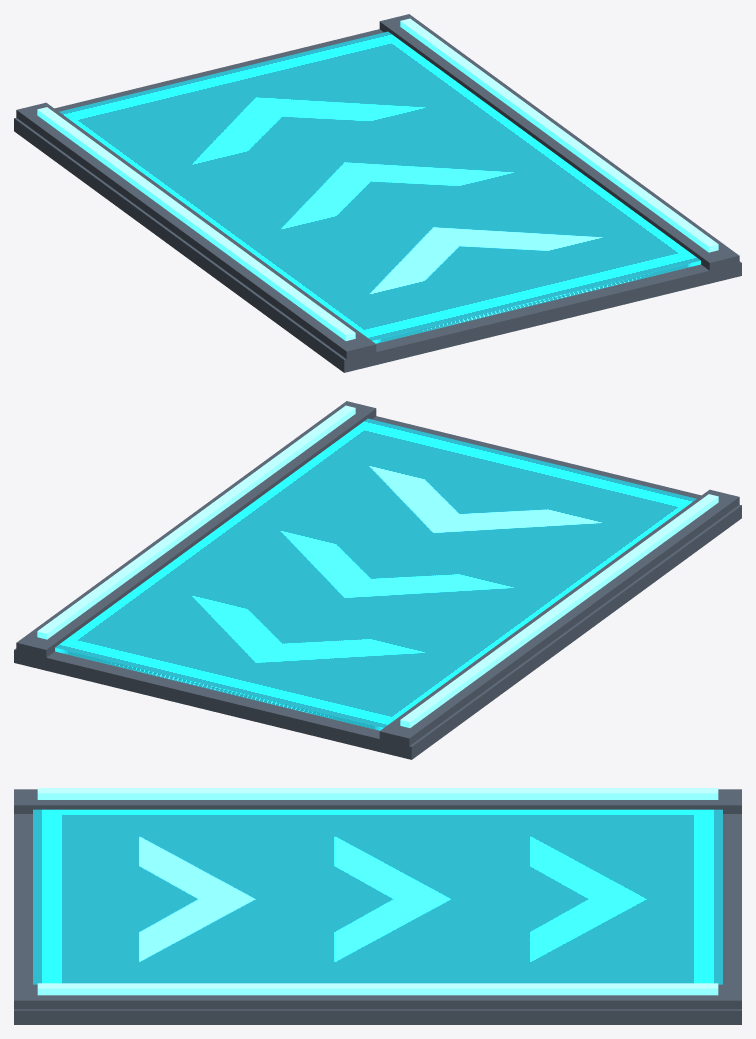
The model's file is speed_boost_pad.glb.
3 views of the same model, one above another, from view 1: azimuth 30°, elevation 25°; view 2: azimuth 150°, elevation 25°; view 3: azimuth 270°, elevation 25° (orthographic). The views are drawn at different scales.
Visible parts, largest first — view 1: speed_boost_pad; view 2: speed_boost_pad; view 3: speed_boost_pad.
Part boxes in pixels (x1,y1,x2,y2): speed_boost_pad: [14, 14, 741, 372]; speed_boost_pad: [14, 401, 741, 759]; speed_boost_pad: [14, 788, 741, 1024].
Size of the model in its own units: 3.2 by 0.205 by 4.6.
Materials: 3 (1 with a texture image).
